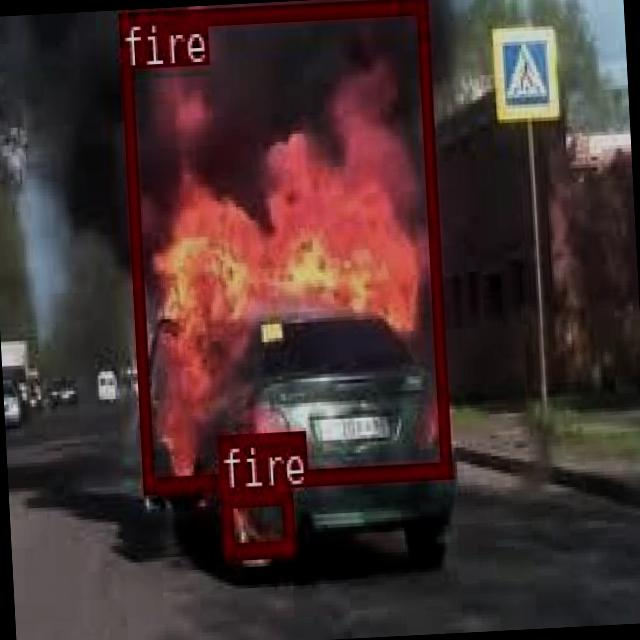fire: (118, 0, 450, 489), (218, 485, 294, 556)
